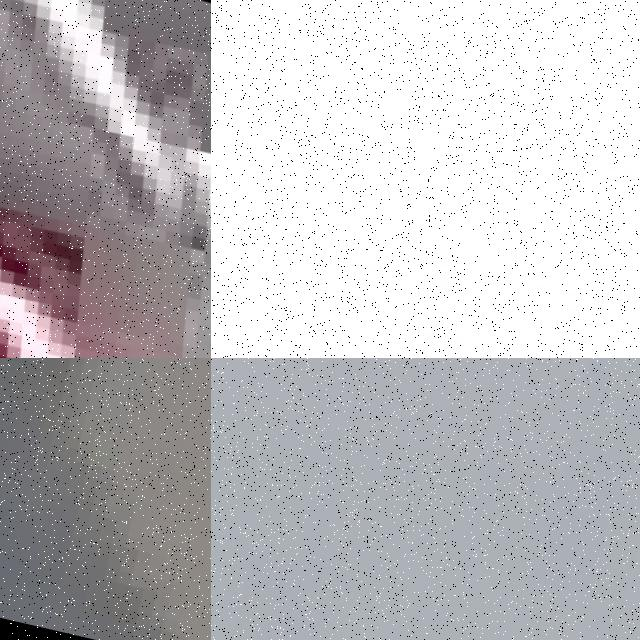drone: (211, 0, 640, 358), (0, 0, 211, 358)
